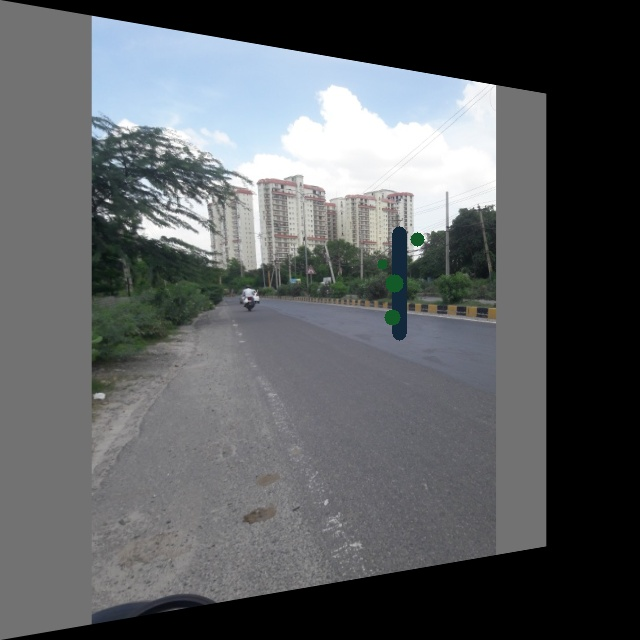Gap_in_Median: (304, 262, 316, 275)
